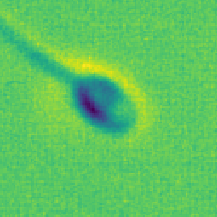normal: (1, 3, 78, 81)
